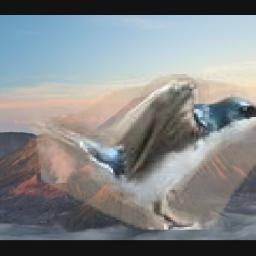Swallow: (30, 75, 256, 230)
